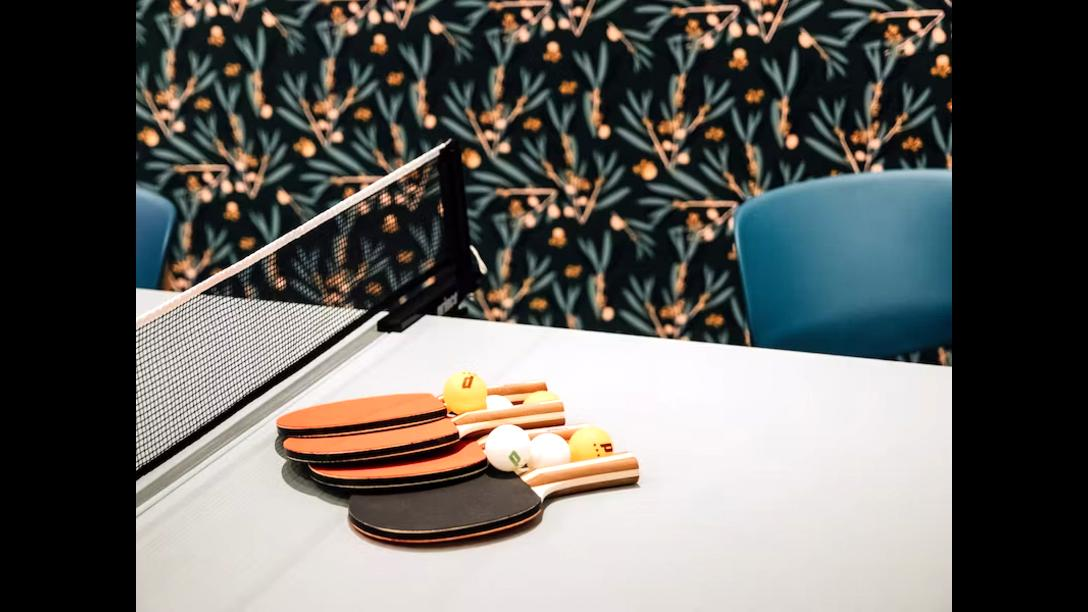Table-Tennis-Ball: (486, 424, 530, 469), (444, 371, 488, 412), (569, 427, 613, 461), (529, 433, 569, 467), (524, 390, 562, 404), (486, 395, 514, 409)
